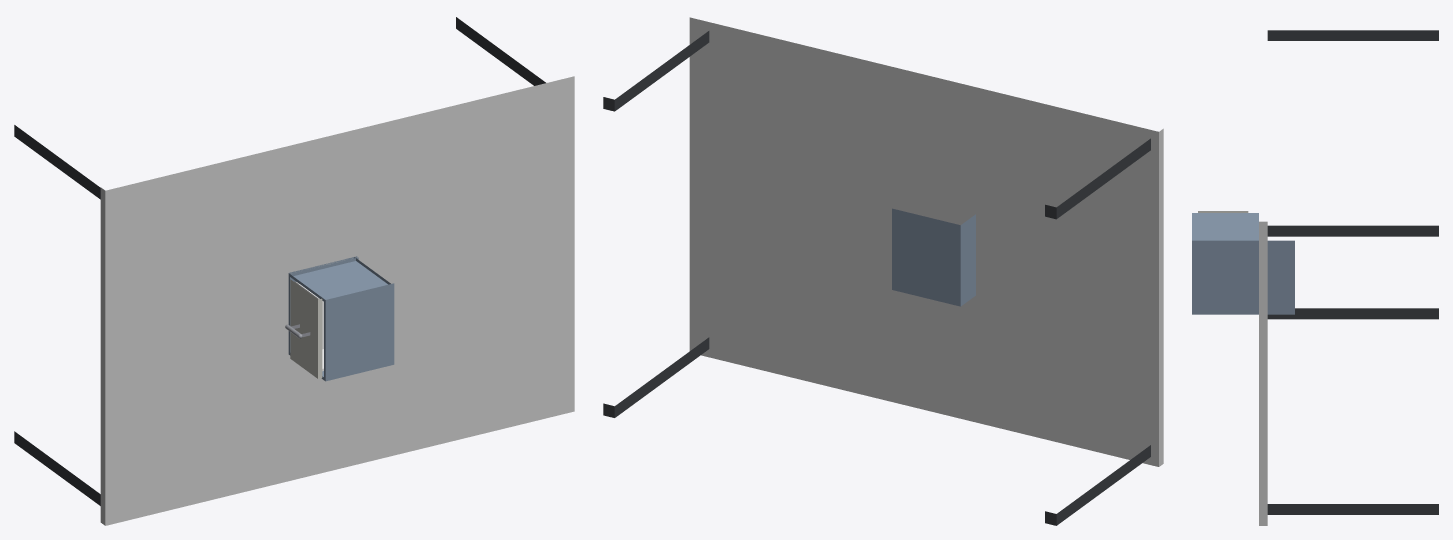
3 views of the same model, side by side, from view 1: azimuth 30°, elevation 25°; view 2: azimuth 150°, elevation 25°; view 3: azimuth 270°, elevation 25° (orthographic). The views are drawn at different scales.
Parts seen in each view (by area): view 1: s0, s1, s2; view 2: s0, s1; view 3: s0, s1.
Part boxes in pixels (x1,y1,x2,y2): s0: [14, 17, 574, 525]; s1: [288, 256, 394, 381]; s2: [285, 279, 323, 378]; s0: [603, 17, 1163, 525]; s1: [892, 208, 975, 306]; s0: [1259, 30, 1438, 525]; s1: [1192, 213, 1294, 314].
Bounding box in the file's own units: 2.05 × 1.4 × 1.03.
